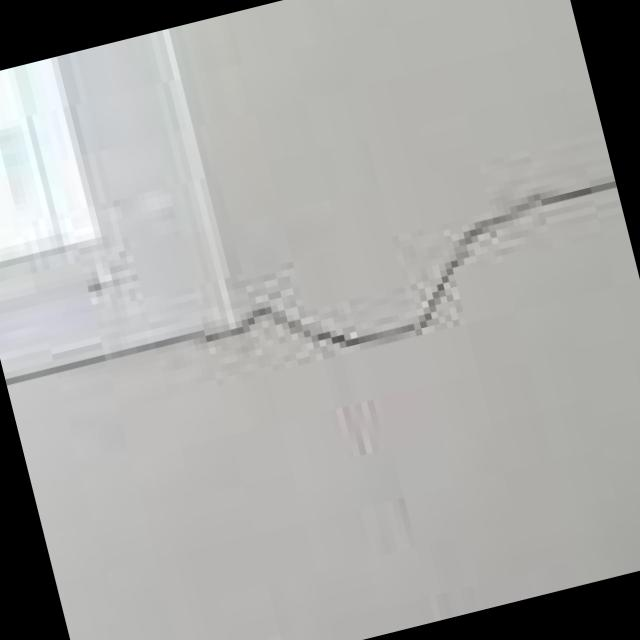crack: (206, 157, 634, 380)
